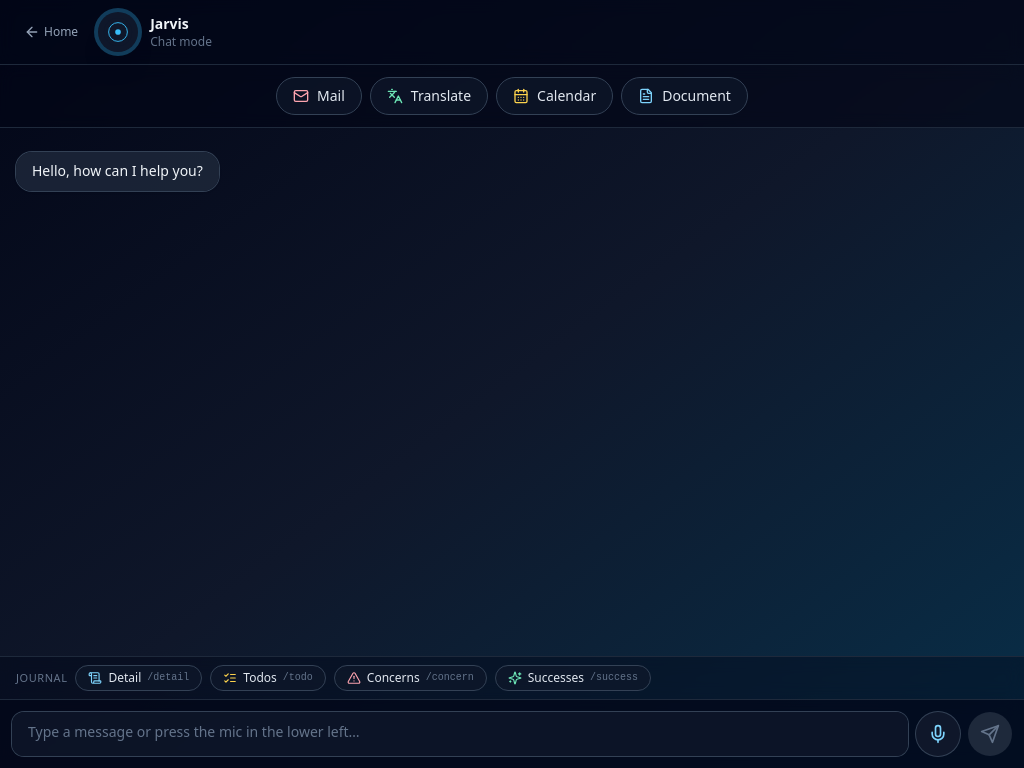
Test: ChatScreen › shows backend error message when ok=false
Type "ping" into the text box with test id "chat-input". click: (460, 734)
box: [12,712,908,756]
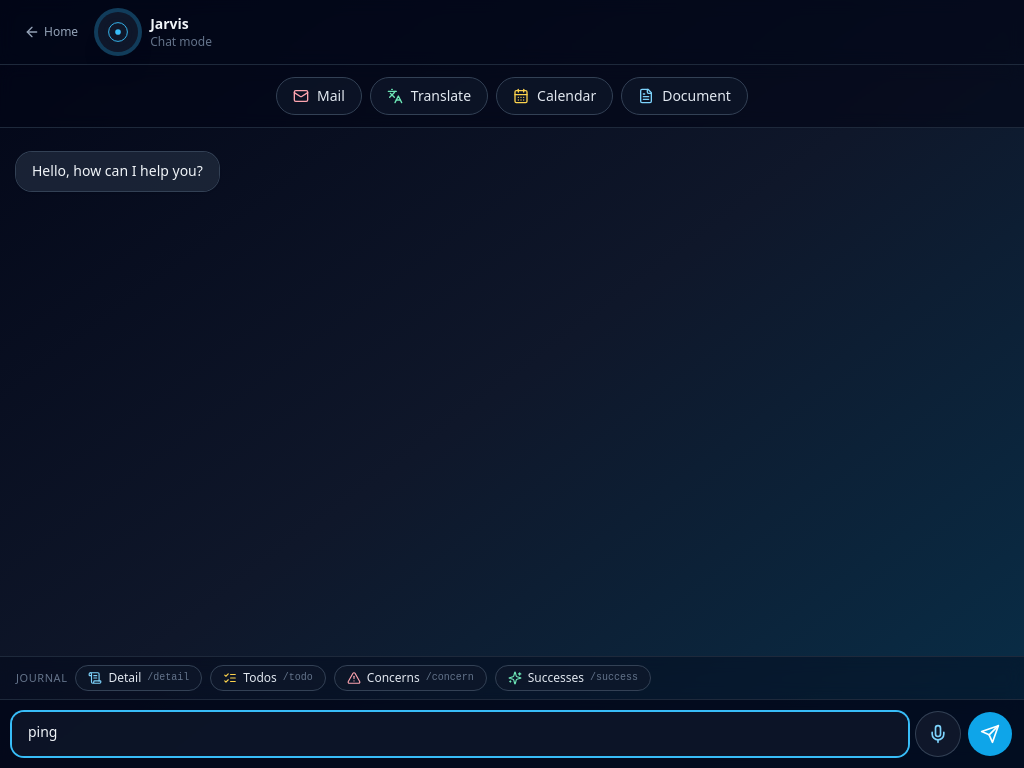
Click the button with test id "send-button". click: (990, 734)
box: [968,712,1012,756]
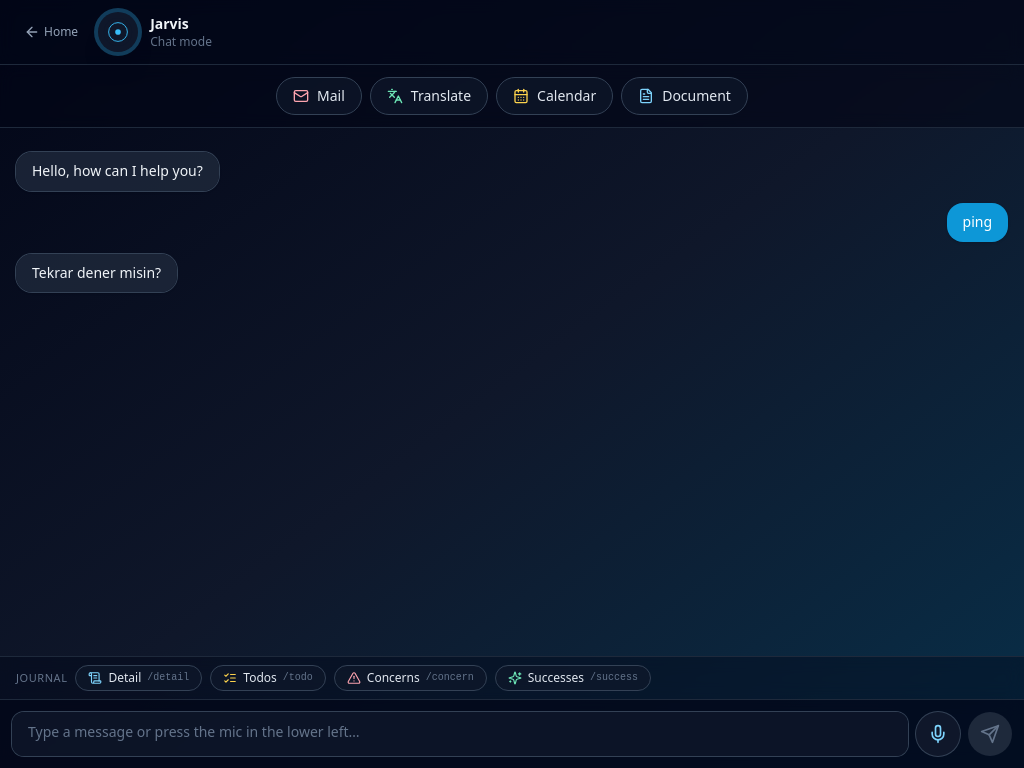
Result: the text "Tekrar dener misin?" is shown at [32,262,161,284]
